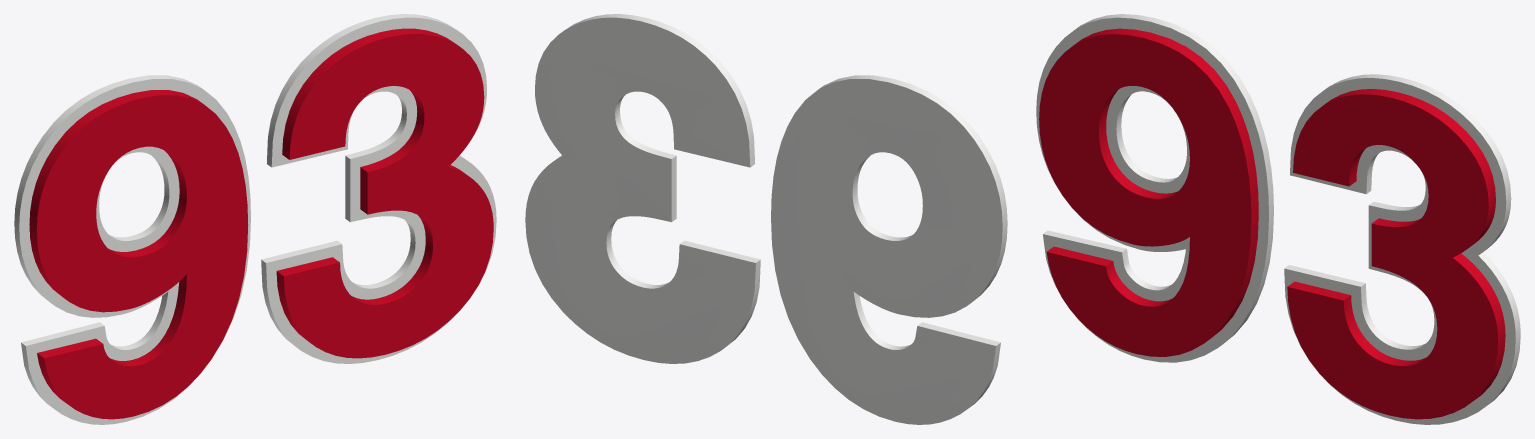
File: relief.glb
3 views of the same model, side by side, from view 1: azimuth 30°, elevation 25°; view 2: azimuth 150°, elevation 25°; view 3: azimuth 330°, elevation 25° (orthographic).
Visible parts, largest first — view 1: numero-93__93-face__f1, numero-93__93-lisere__f2; view 2: numero-93__93-lisere__f2; view 3: numero-93__93-face__f1, numero-93__93-lisere__f2.
Part boxes in pixels (x1=…): numero-93__93-face__f1: x1=29, y1=28, x2=493, y2=419; numero-93__93-lisere__f2: x1=14, y1=14, x2=496, y2=424; numero-93__93-lisere__f2: x1=525, y1=14, x2=1007, y2=424; numero-93__93-face__f1: x1=1039, y1=28, x2=1505, y2=419; numero-93__93-lisere__f2: x1=1036, y1=14, x2=1520, y2=424.
Bounding box in the file's own units: 112 × 76.14 × 5.
